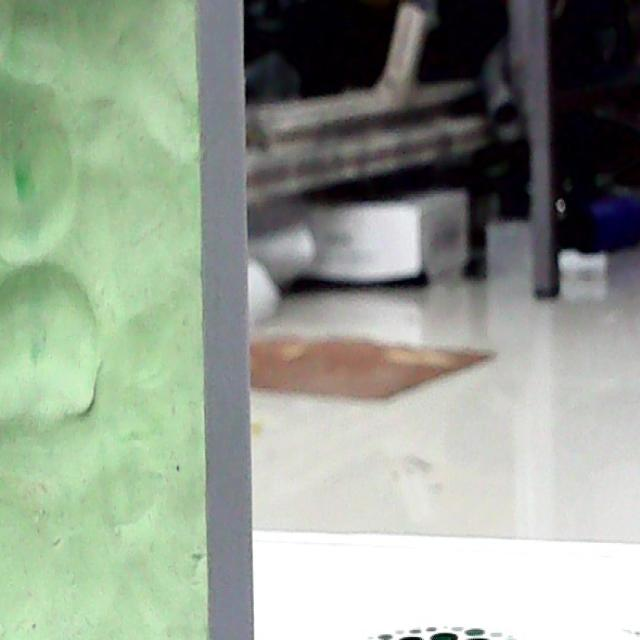block: (0, 0, 261, 640)
